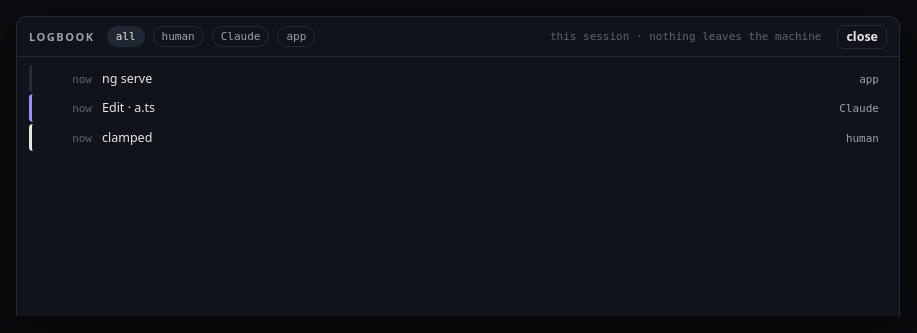
Test: LogbookDrawer › a pill narrows the rows to that actor and "printed" restores everything
Expected: the number of list items is 3, [29,65,887,92]; [29,94,887,122]; [29,124,887,151]
Click the button "Claude" at point(241, 36), box [212,26,270,47]
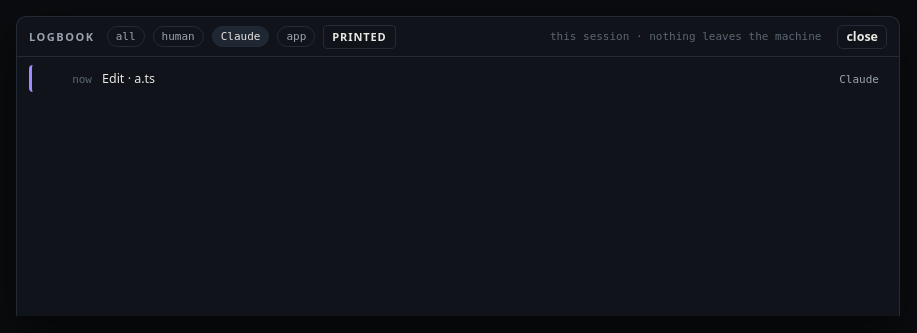
Expected: the text "Edit · a.ts" is shown, [102,70,155,87]
Expected: the number of list items is 1, [29,65,887,92]
Click the button titled "printed — show everything" at point(359, 36), box [323,24,396,48]
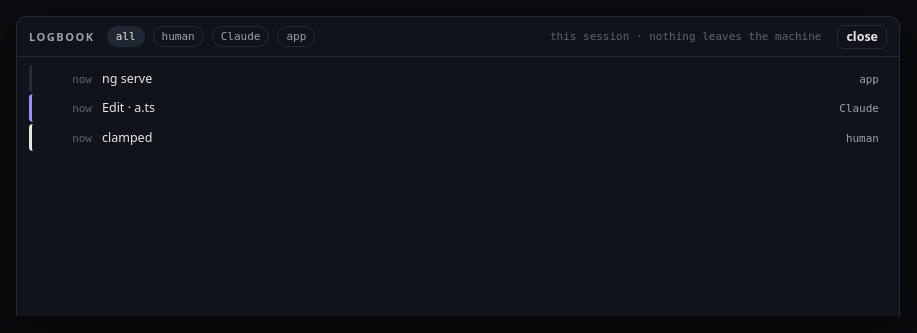
Expected: the button "all" is shown, [107,26,145,47]
Expected: the number of list items is 3, [29,65,887,92]; [29,94,887,122]; [29,124,887,151]
